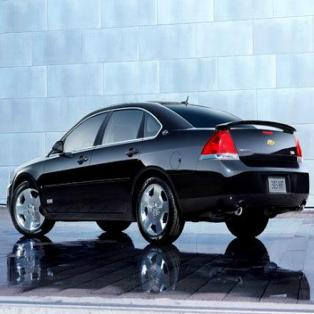Auto: (5, 99, 312, 247)
